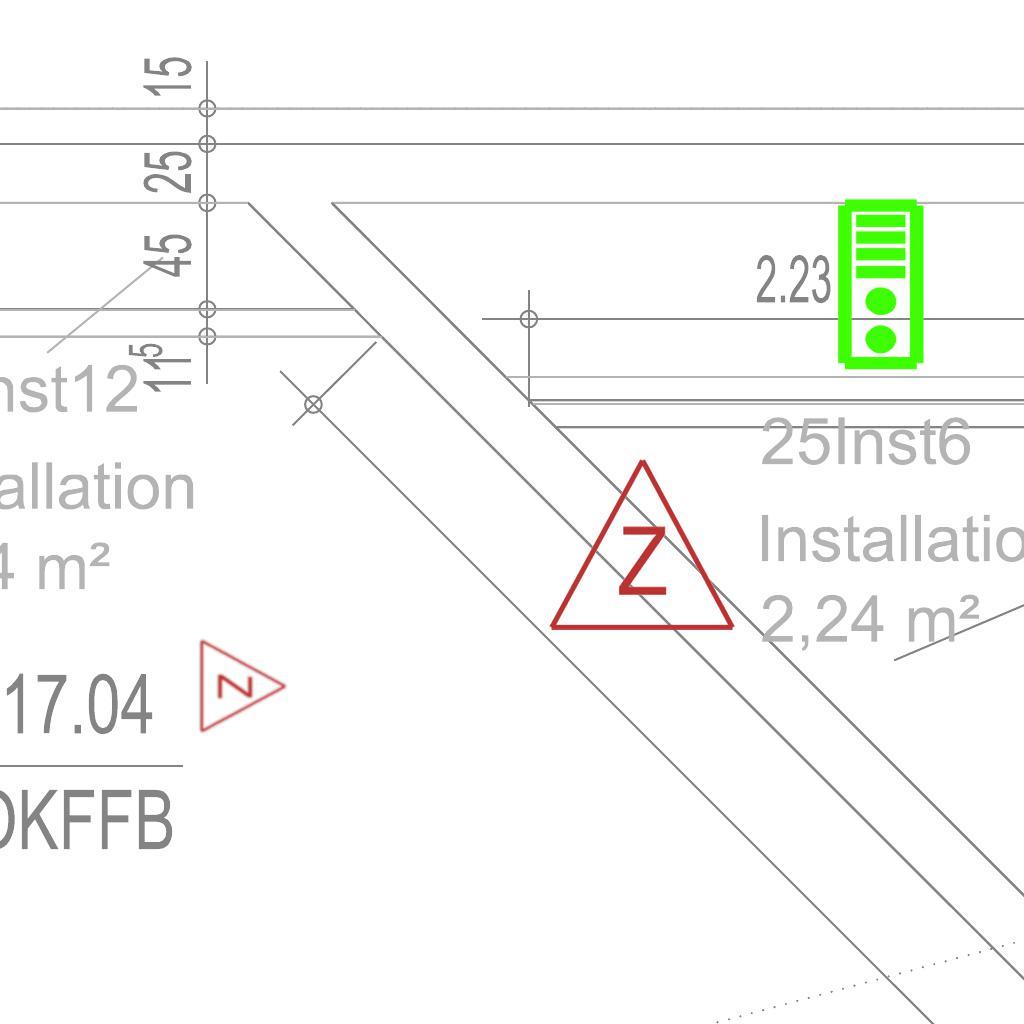Gegensprechanlage_mit_Video: (835, 197, 930, 373)
Zimmersignalleuchte: (542, 445, 738, 645), (193, 636, 293, 734)
